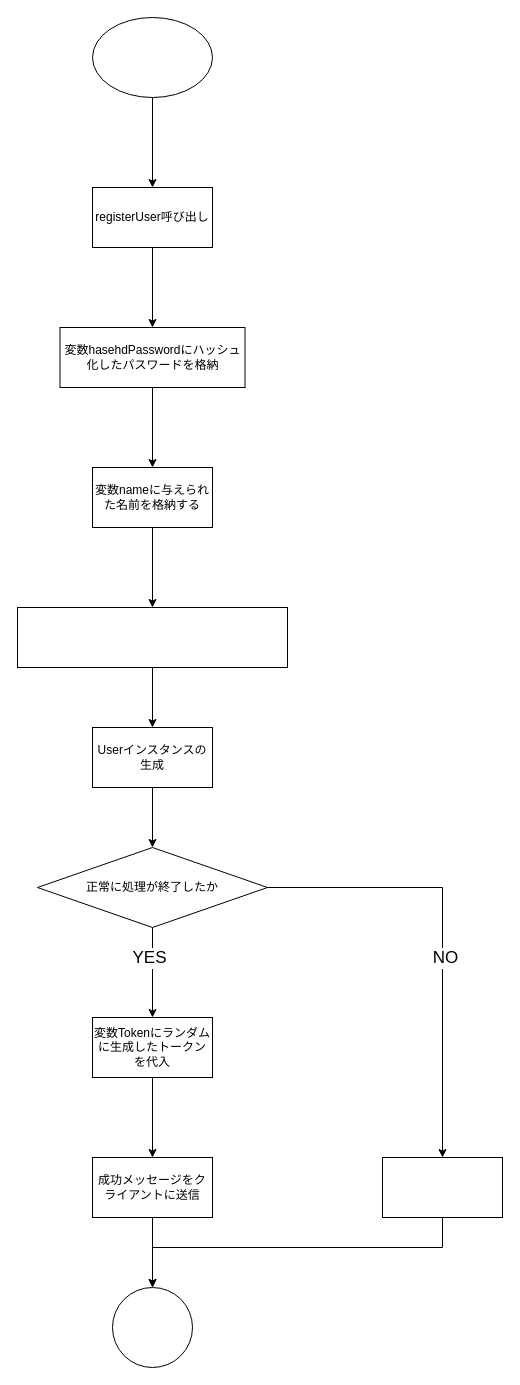
This 520x1385 diagram has some shape labels left out. Here are the shapes that lost their labels. From the top down, the centre of each, then its label:
At pixel 152 57: "開始".
At pixel 152 637: "DB操作のregisterUserの引数にid=name,password=hashedPasswordを指定して、呼び出し".
At pixel 442 1187: "エラーメッセージをクライントに送信".
At pixel 152 1327: "終了".
